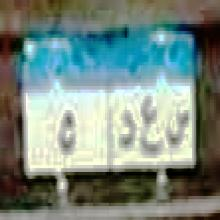5: (56, 109, 78, 154)
ain: (140, 94, 160, 156)
daal: (118, 109, 138, 148)
seen: (167, 106, 189, 146)
